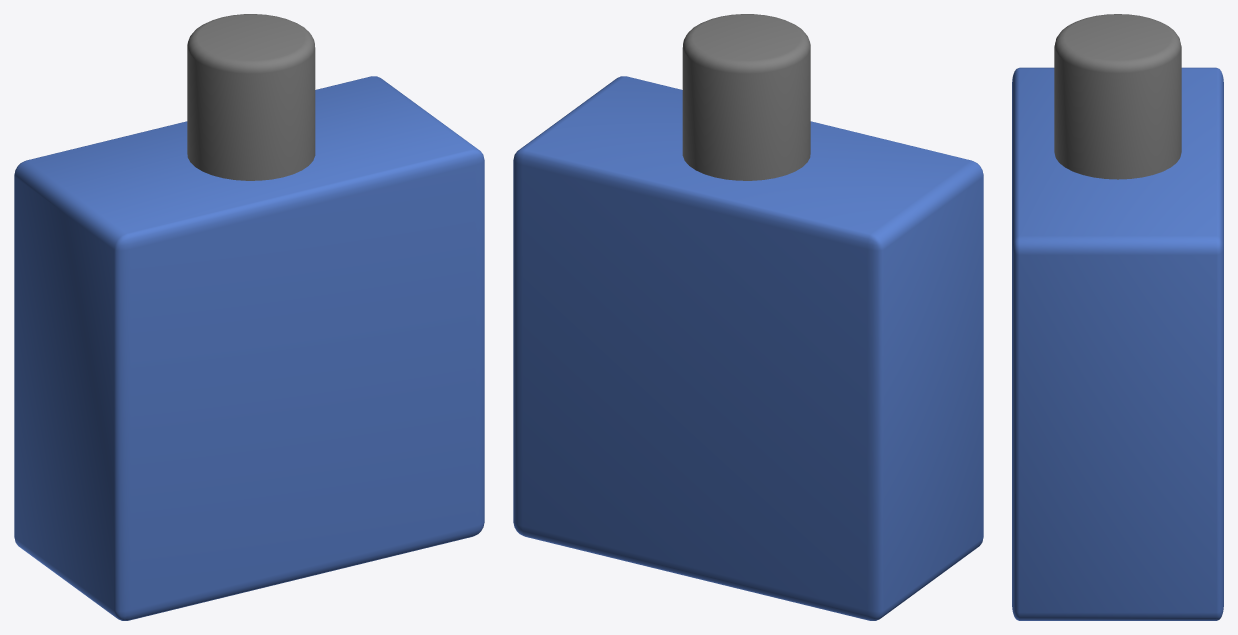
The picture shows the model from 3 angles, left to right: view 1: azimuth 30°, elevation 25°; view 2: azimuth 150°, elevation 25°; view 3: azimuth 270°, elevation 25°; orthographic projection.
Parts seen in each view (by area): view 1: Cube, 円柱; view 2: Cube, 円柱; view 3: Cube, 円柱.
Boxes of the visible parts, box(x1,y1,x2,y2) form: Cube: box(14, 76, 484, 620); 円柱: box(187, 14, 315, 180); Cube: box(513, 76, 983, 620); 円柱: box(682, 14, 810, 180); Cube: box(1012, 67, 1223, 620); 円柱: box(1054, 14, 1181, 179).
Size of the model in its own units: 400 by 521 by 200.
